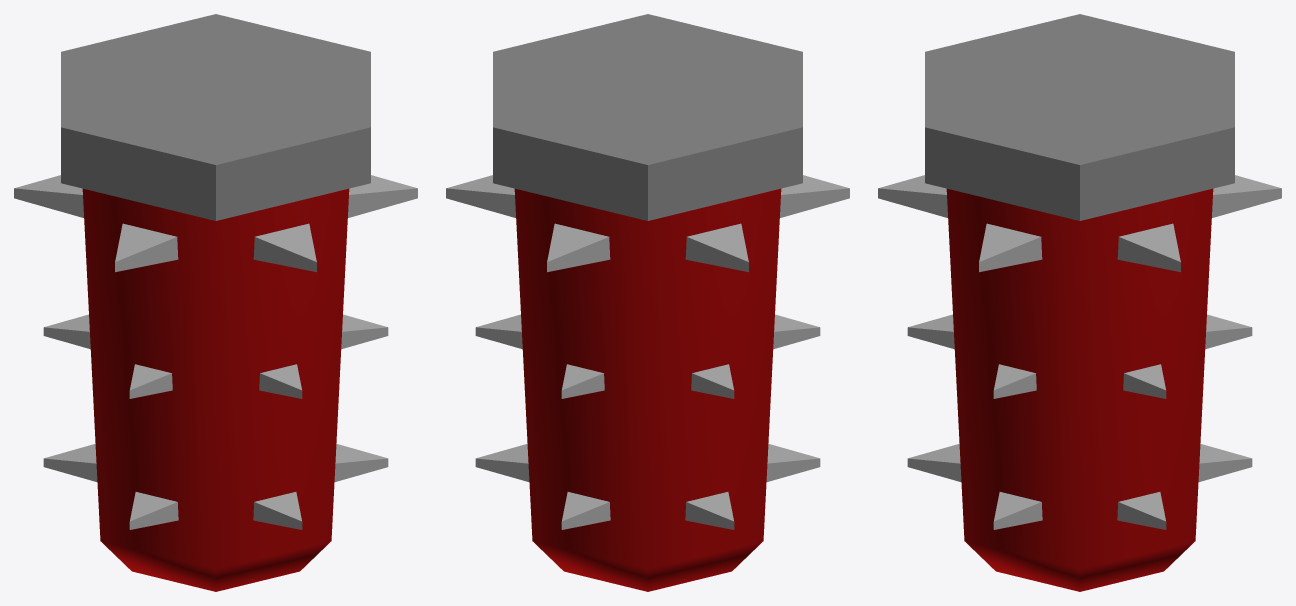
Rendered from posoh9.fbx.
3 renders of one model, left to right at view 1: azimuth 30°, elevation 25°; view 2: azimuth 150°, elevation 25°; view 3: azimuth 270°, elevation 25°, orthographic.
Parts seen in each view (by area): view 1: posoh9; view 2: posoh9; view 3: posoh9.
Boxes of the visible parts, x1,y1,x2,y2 form: posoh9: [14, 14, 417, 591]; posoh9: [446, 14, 849, 591]; posoh9: [878, 14, 1281, 591].
Bounding box in the file's own units: 10.23 × 14.56 × 11.54.
